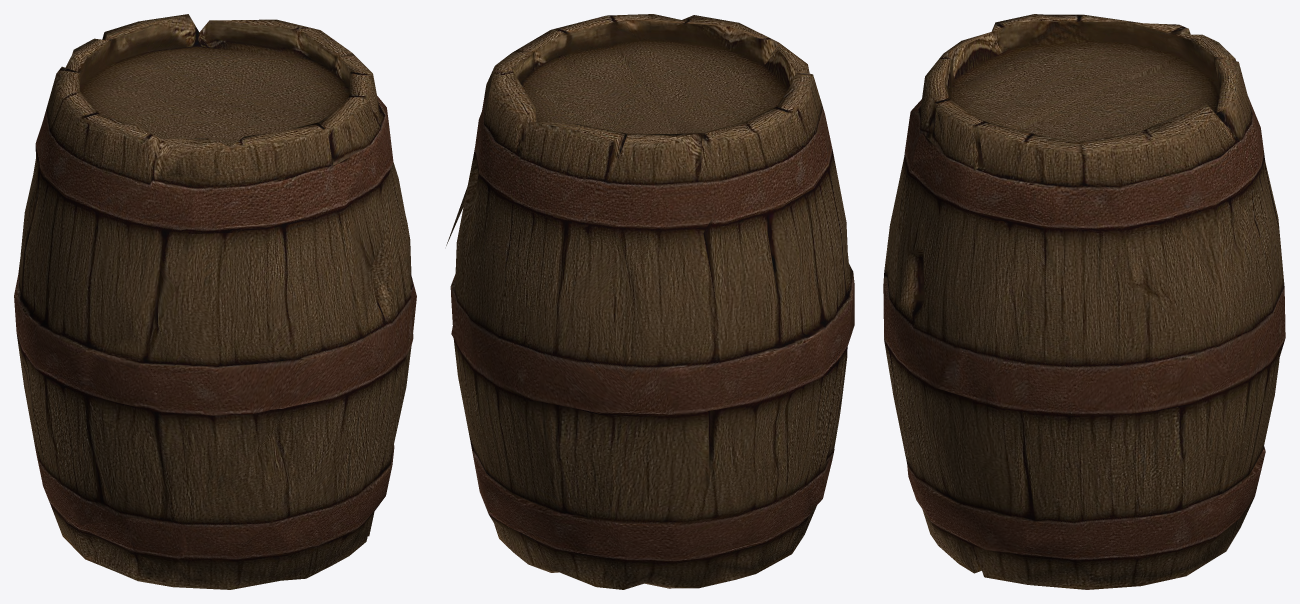
The model's file is barrel.glb.
The picture shows the model from 3 angles, left to right: view 1: azimuth 30°, elevation 25°; view 2: azimuth 150°, elevation 25°; view 3: azimuth 270°, elevation 25°; orthographic projection.
Bounding box in the file's own units: 0.8092 × 1 × 0.8029.
Materials: 1 (1 with a texture image).
